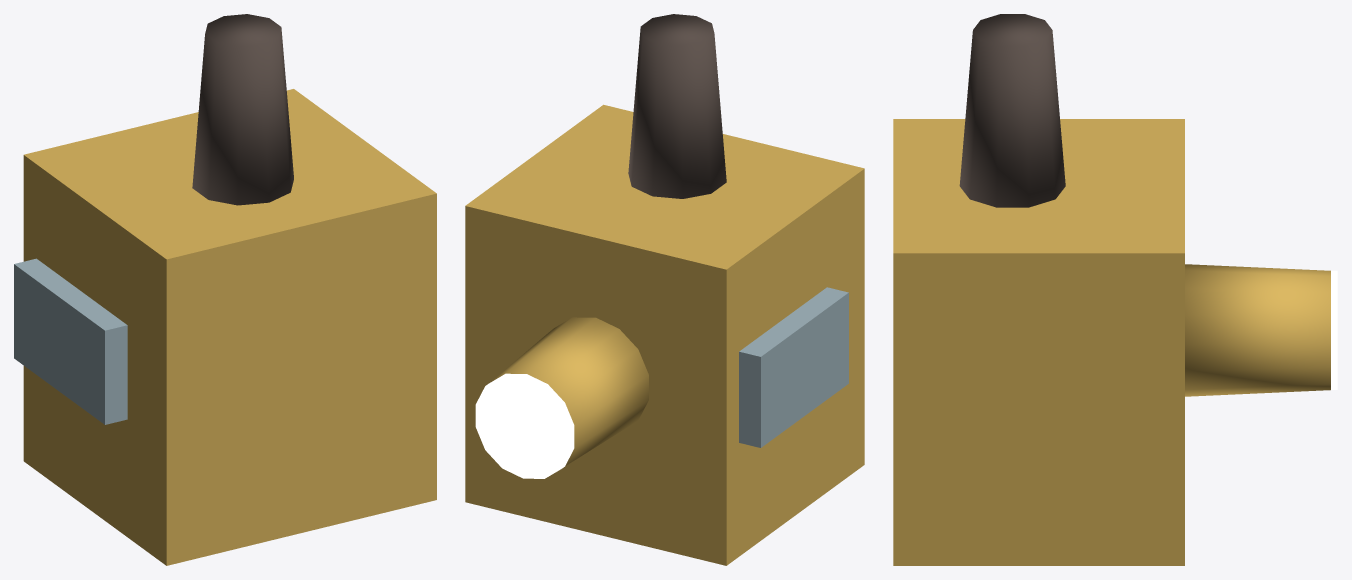
File: SM_PRP_LanternaMagica.fbx
The picture shows the model from 3 angles, left to right: view 1: azimuth 30°, elevation 25°; view 2: azimuth 150°, elevation 25°; view 3: azimuth 270°, elevation 25°; orthographic projection. The views are drawn at different scales.
Visible parts, largest first — view 1: SM_PRP_LanternaMagica; view 2: SM_PRP_LanternaMagica; view 3: SM_PRP_LanternaMagica.
Boxes of the visible parts, <box> form: SM_PRP_LanternaMagica: <box>14,14,436,565</box>; SM_PRP_LanternaMagica: <box>465,14,864,565</box>; SM_PRP_LanternaMagica: <box>893,14,1337,565</box>.
Bounding box in the file's own units: 0.26 × 0.39 × 0.335.
